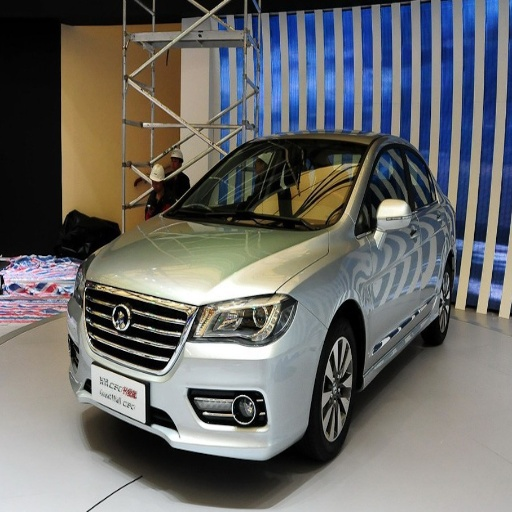front_bumper: (79, 288, 325, 460)
front_glass: (146, 140, 365, 229)
front_left_door: (362, 141, 417, 353)
